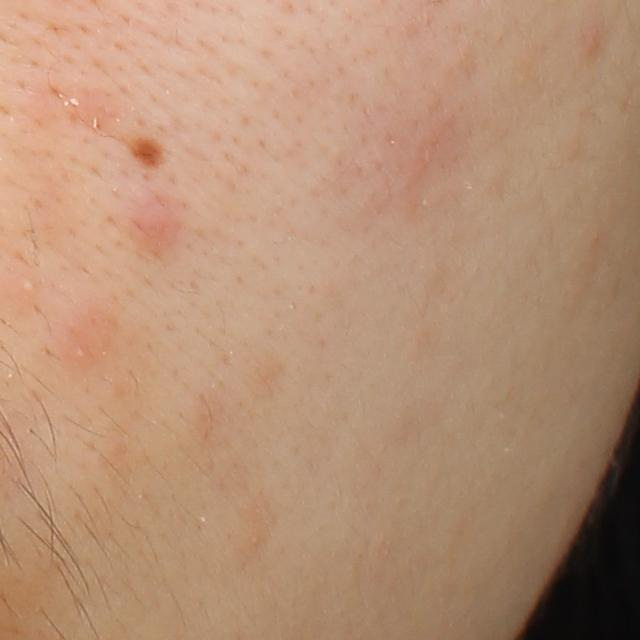comedo: (19, 278, 37, 293)
melasma: (117, 132, 171, 172)
papule: (579, 26, 607, 59)
